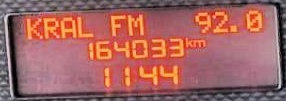-: (228, 23, 238, 33)
0: (242, 8, 265, 32), (129, 38, 147, 58)
1: (118, 63, 134, 88), (97, 63, 113, 88), (81, 40, 94, 59)
2: (211, 8, 227, 33)
3: (146, 36, 167, 58), (167, 36, 183, 57)
4: (135, 63, 157, 86), (158, 63, 179, 84), (111, 38, 128, 59)
6: (95, 39, 111, 60)
9: (192, 9, 210, 33)
X: (75, 14, 95, 37), (24, 16, 42, 40), (126, 13, 144, 36), (42, 15, 59, 39), (59, 15, 76, 38), (108, 13, 124, 36), (192, 37, 207, 48), (184, 35, 192, 48)
